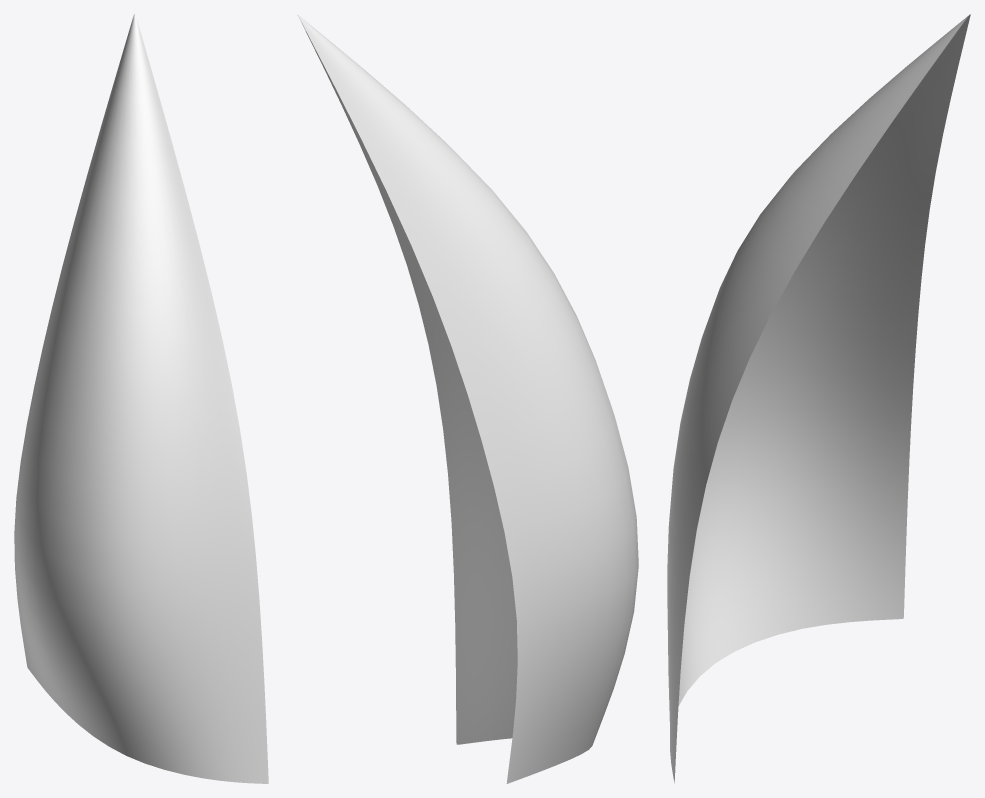
Rendered from sail-jib.glb.
3 renders of one model, left to right at view 1: azimuth 30°, elevation 25°; view 2: azimuth 150°, elevation 25°; view 3: azimuth 270°, elevation 25°, orthographic. The views are drawn at different scales.
Visible parts, largest first — view 1: sail.jib; view 2: sail.jib; view 3: sail.jib.
Boxes of the visible parts, x1,y1,x2,y2 form: sail.jib: (14,14,268,783); sail.jib: (297,14,638,783); sail.jib: (667,14,970,783).
Bounding box in the file's own units: 5 × 18.16 × 6.51.
Materials: 1 (1 with a texture image).
